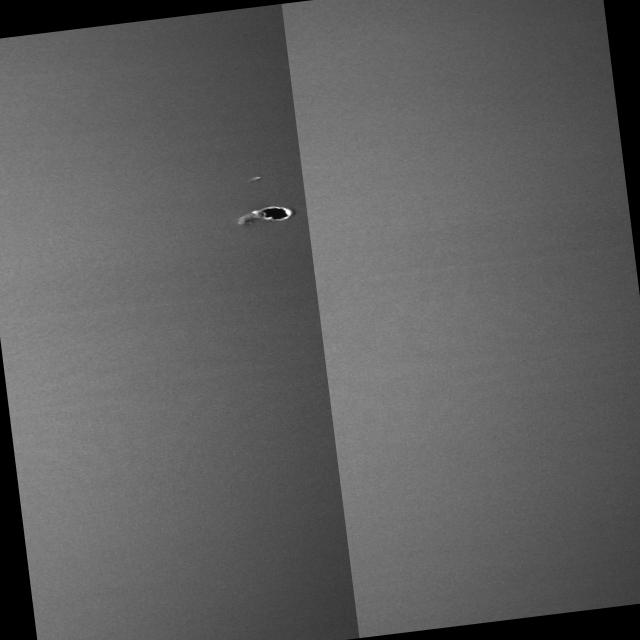Thread: (232, 208, 265, 224), (244, 174, 264, 182)
hole: (252, 202, 294, 224)
